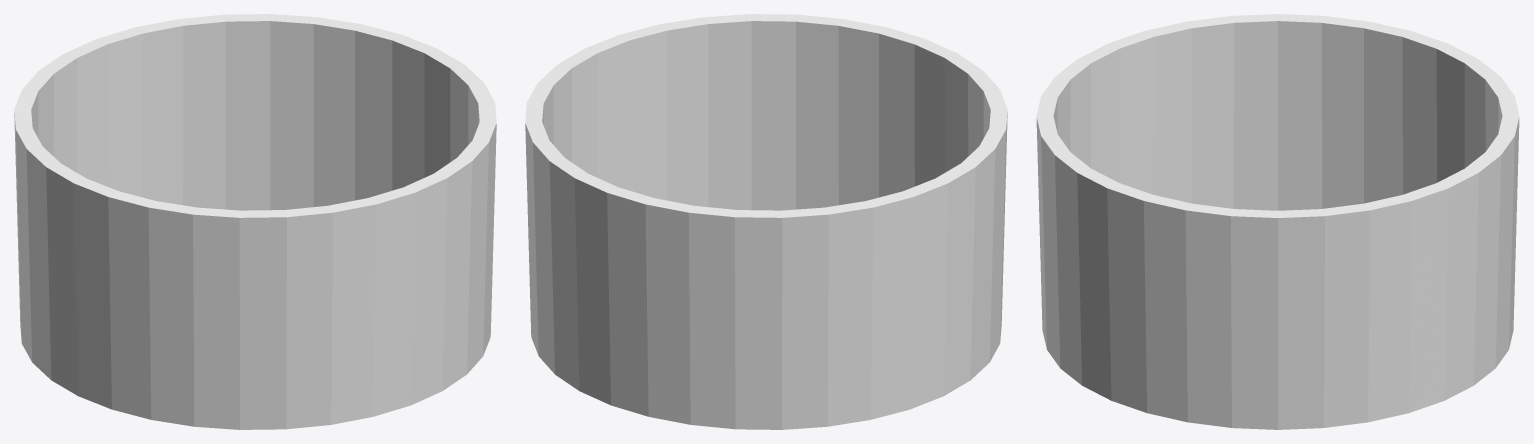
Rendered from glow_cylinder (1).fbx.
The picture shows the model from 3 angles, left to right: view 1: azimuth 30°, elevation 25°; view 2: azimuth 150°, elevation 25°; view 3: azimuth 270°, elevation 25°; orthographic projection.
Parts seen in each view (by area): view 1: effect_cylinder; view 2: effect_cylinder; view 3: effect_cylinder.
Boxes of the visible parts, <box> form: effect_cylinder: <box>14,14,496,429</box>; effect_cylinder: <box>525,14,1007,429</box>; effect_cylinder: <box>1036,14,1519,429</box>.
Bounding box in the file's own units: 202 × 99.18 × 202.
